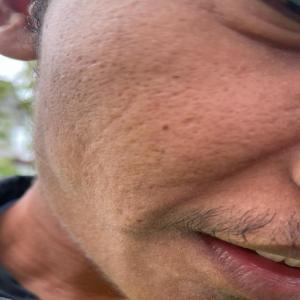Dry-Skin: (56, 21, 296, 218)
